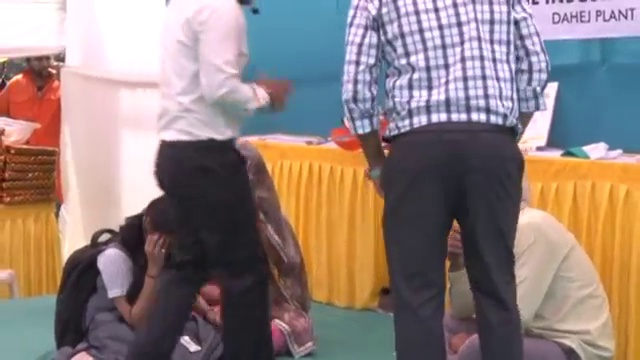helmet: (0, 116, 43, 147)
helmet_off: (127, 195, 182, 270), (235, 141, 277, 197), (26, 52, 57, 79)
person: (338, 0, 551, 360), (139, 1, 297, 358), (440, 189, 618, 355), (46, 198, 201, 360), (236, 138, 313, 355), (0, 52, 62, 147)
